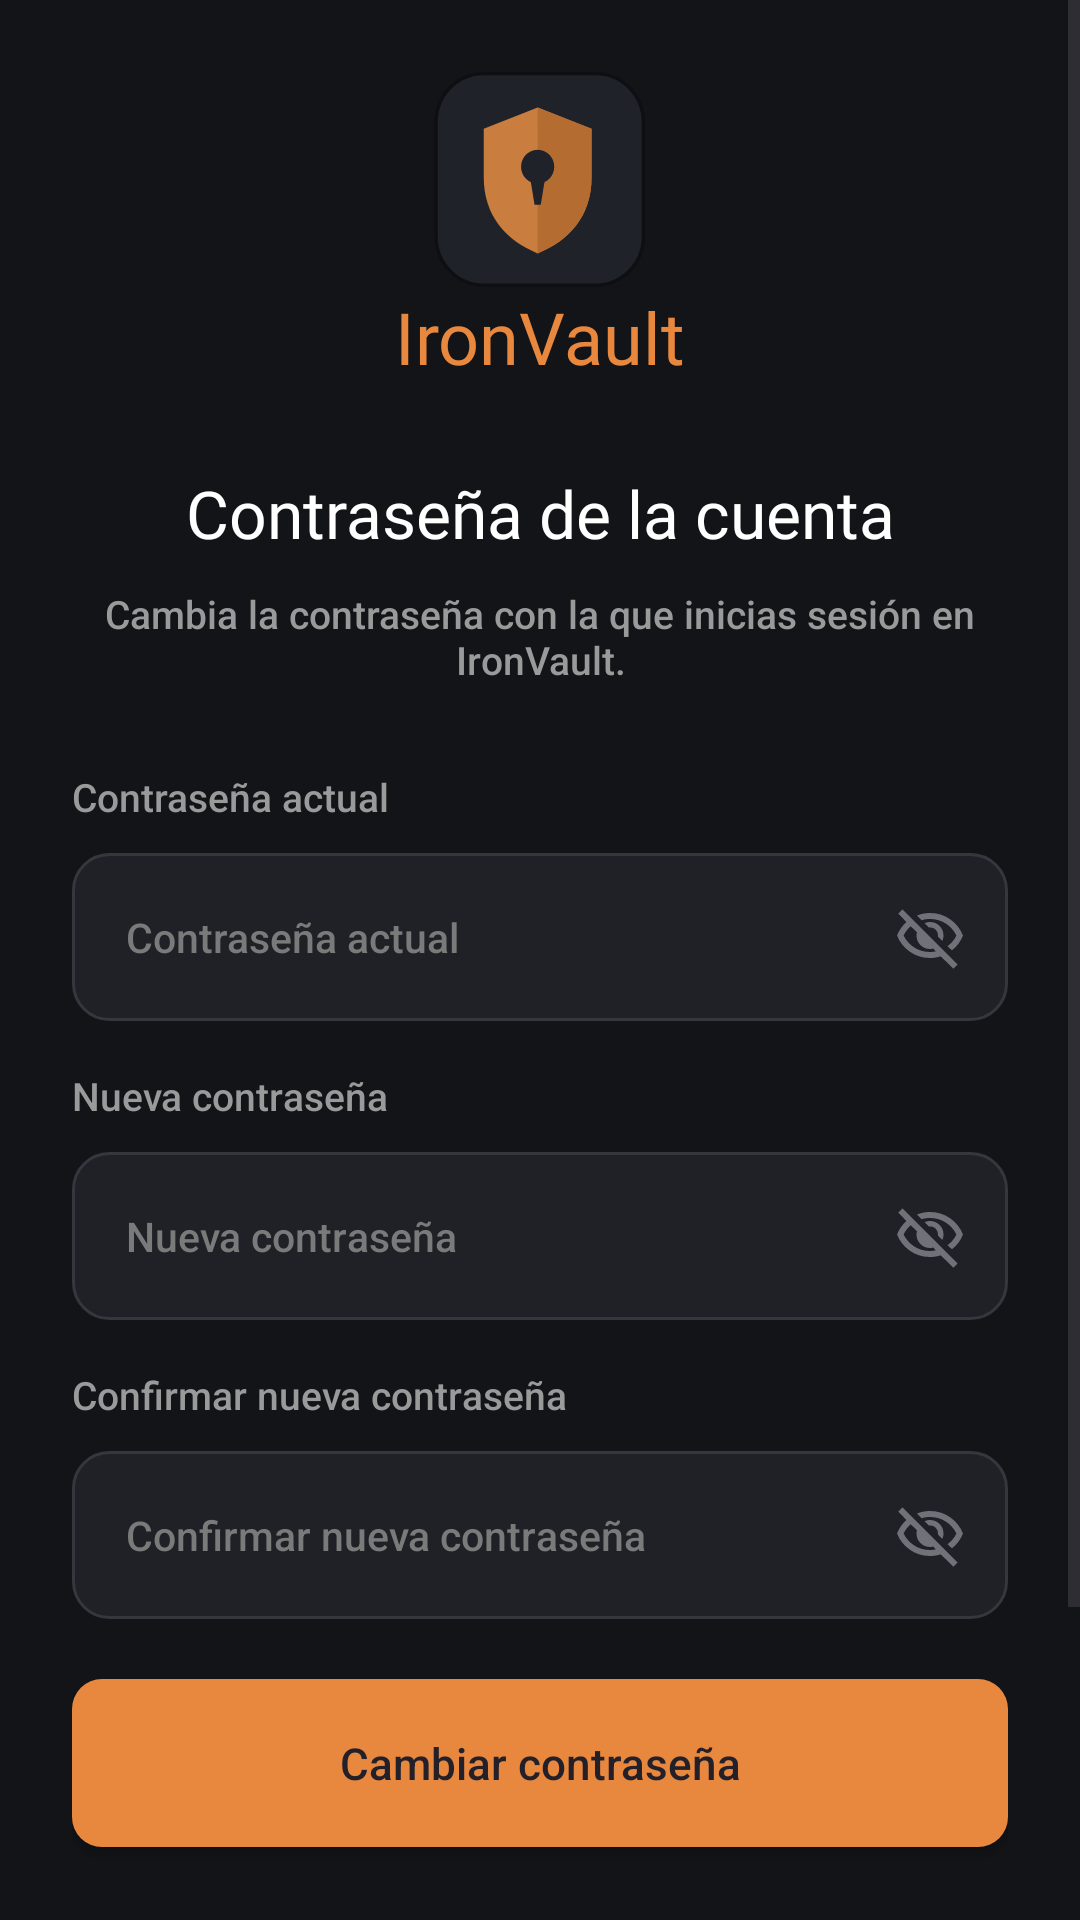

Icon click points for this 1080px x 1920px phone screenshot, format (x=x, y=y):
Ver contraseña: (x=930, y=939), (x=930, y=1238), (x=930, y=1537)
